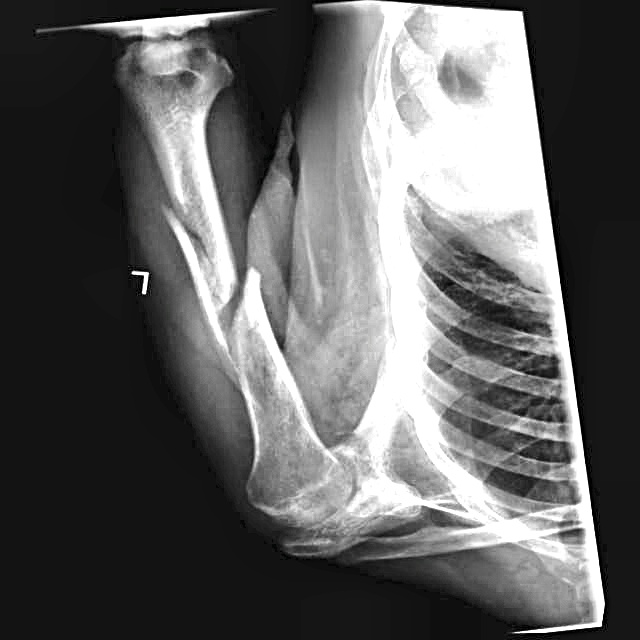Spiral: (157, 195, 283, 357)
